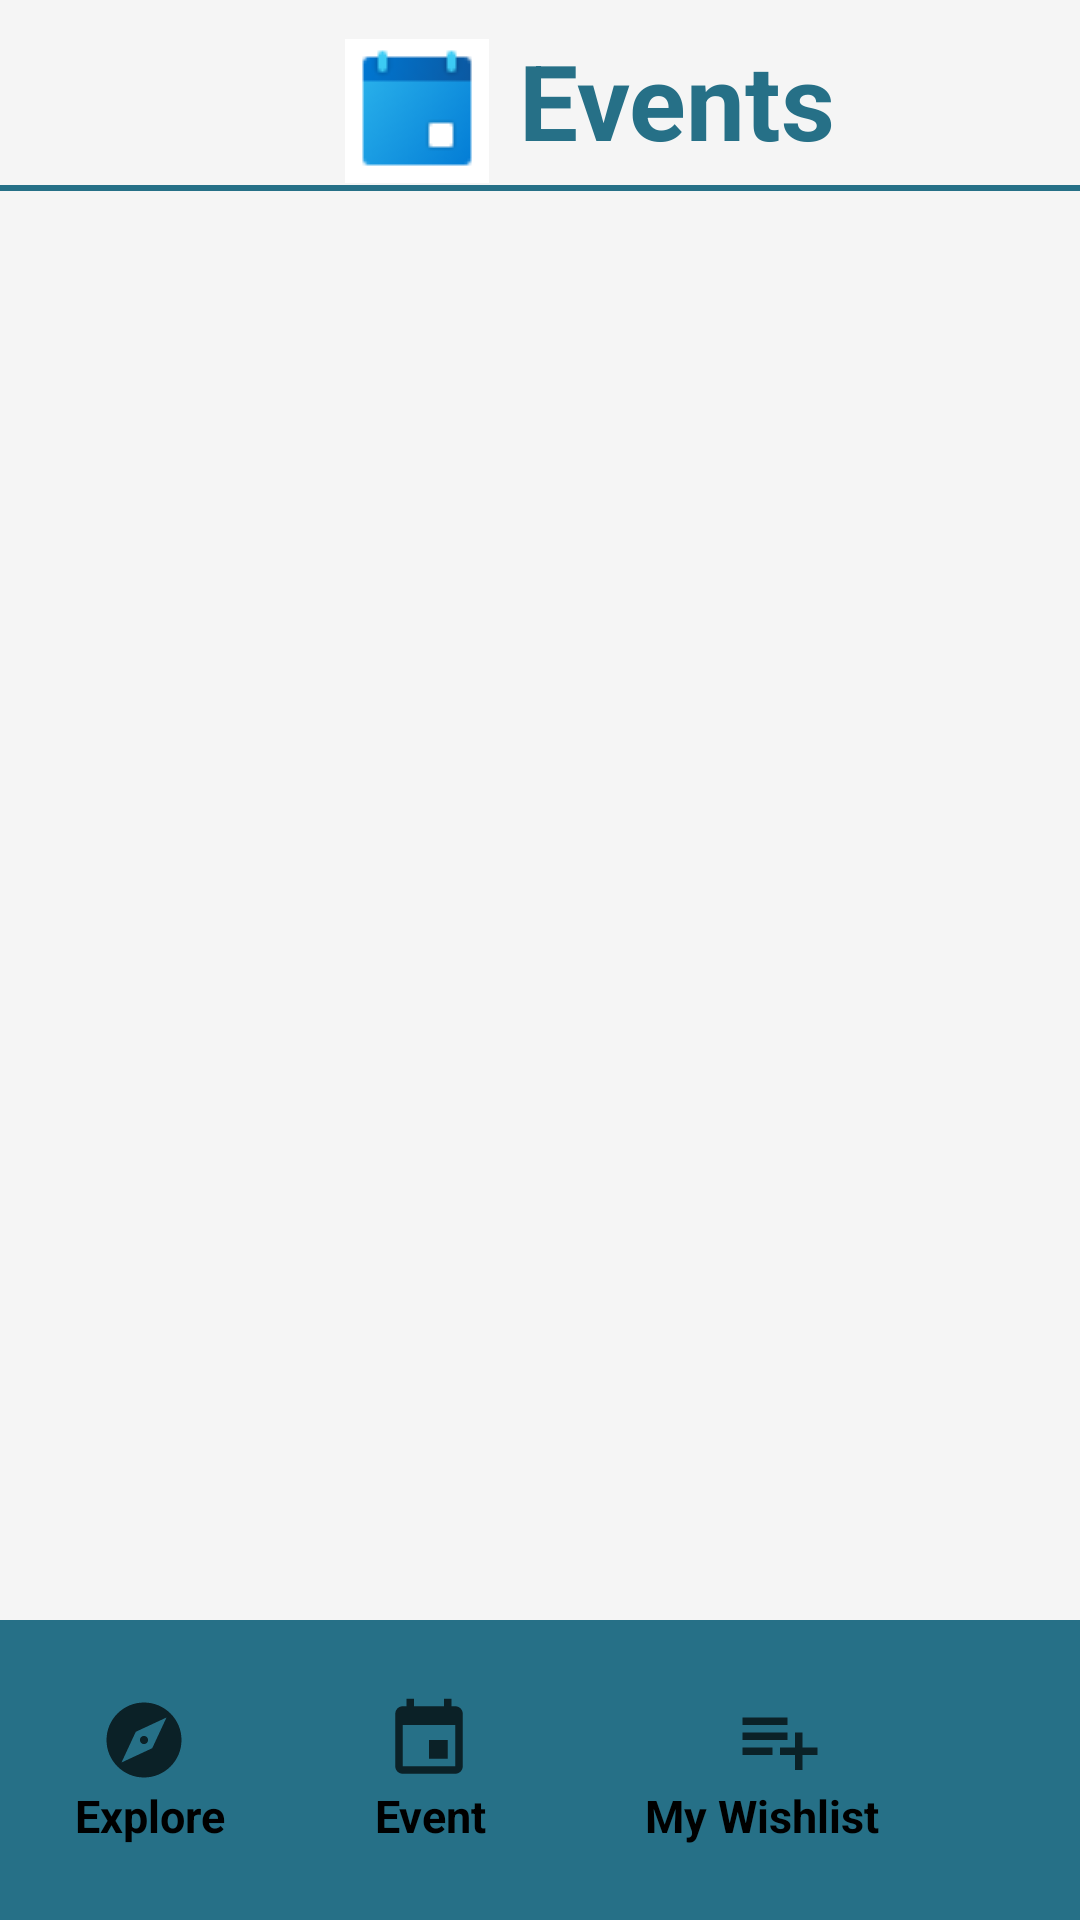

Screen size 1080px x 1920px. Icon name, then its box in pixels as (x1, y1, x2, y2):
event category: (362, 50, 472, 166)
